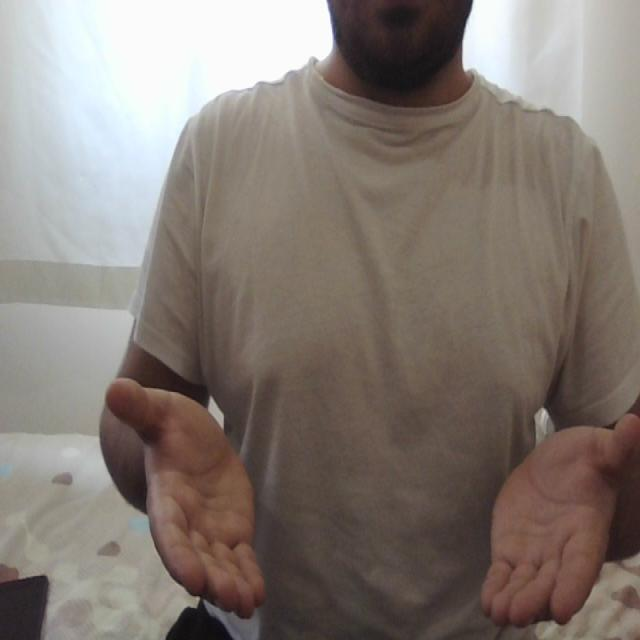Evet: (102, 372, 640, 633)
